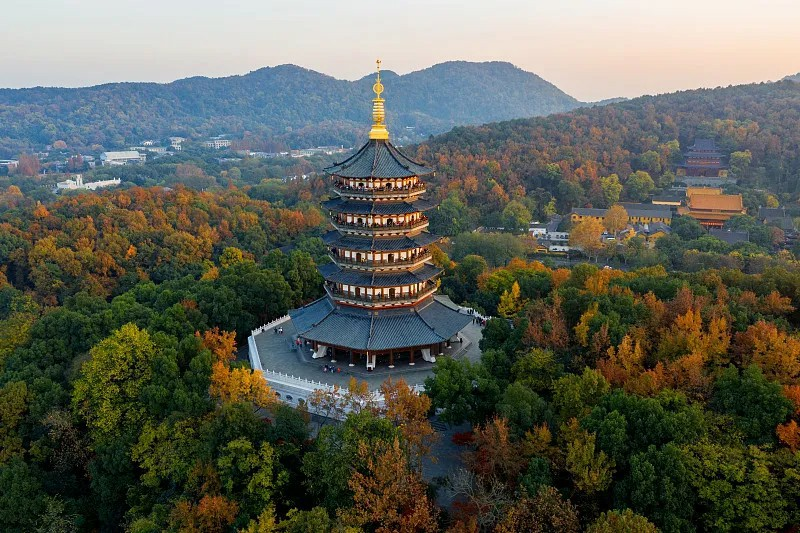Leifeng: (285, 59, 474, 375)
